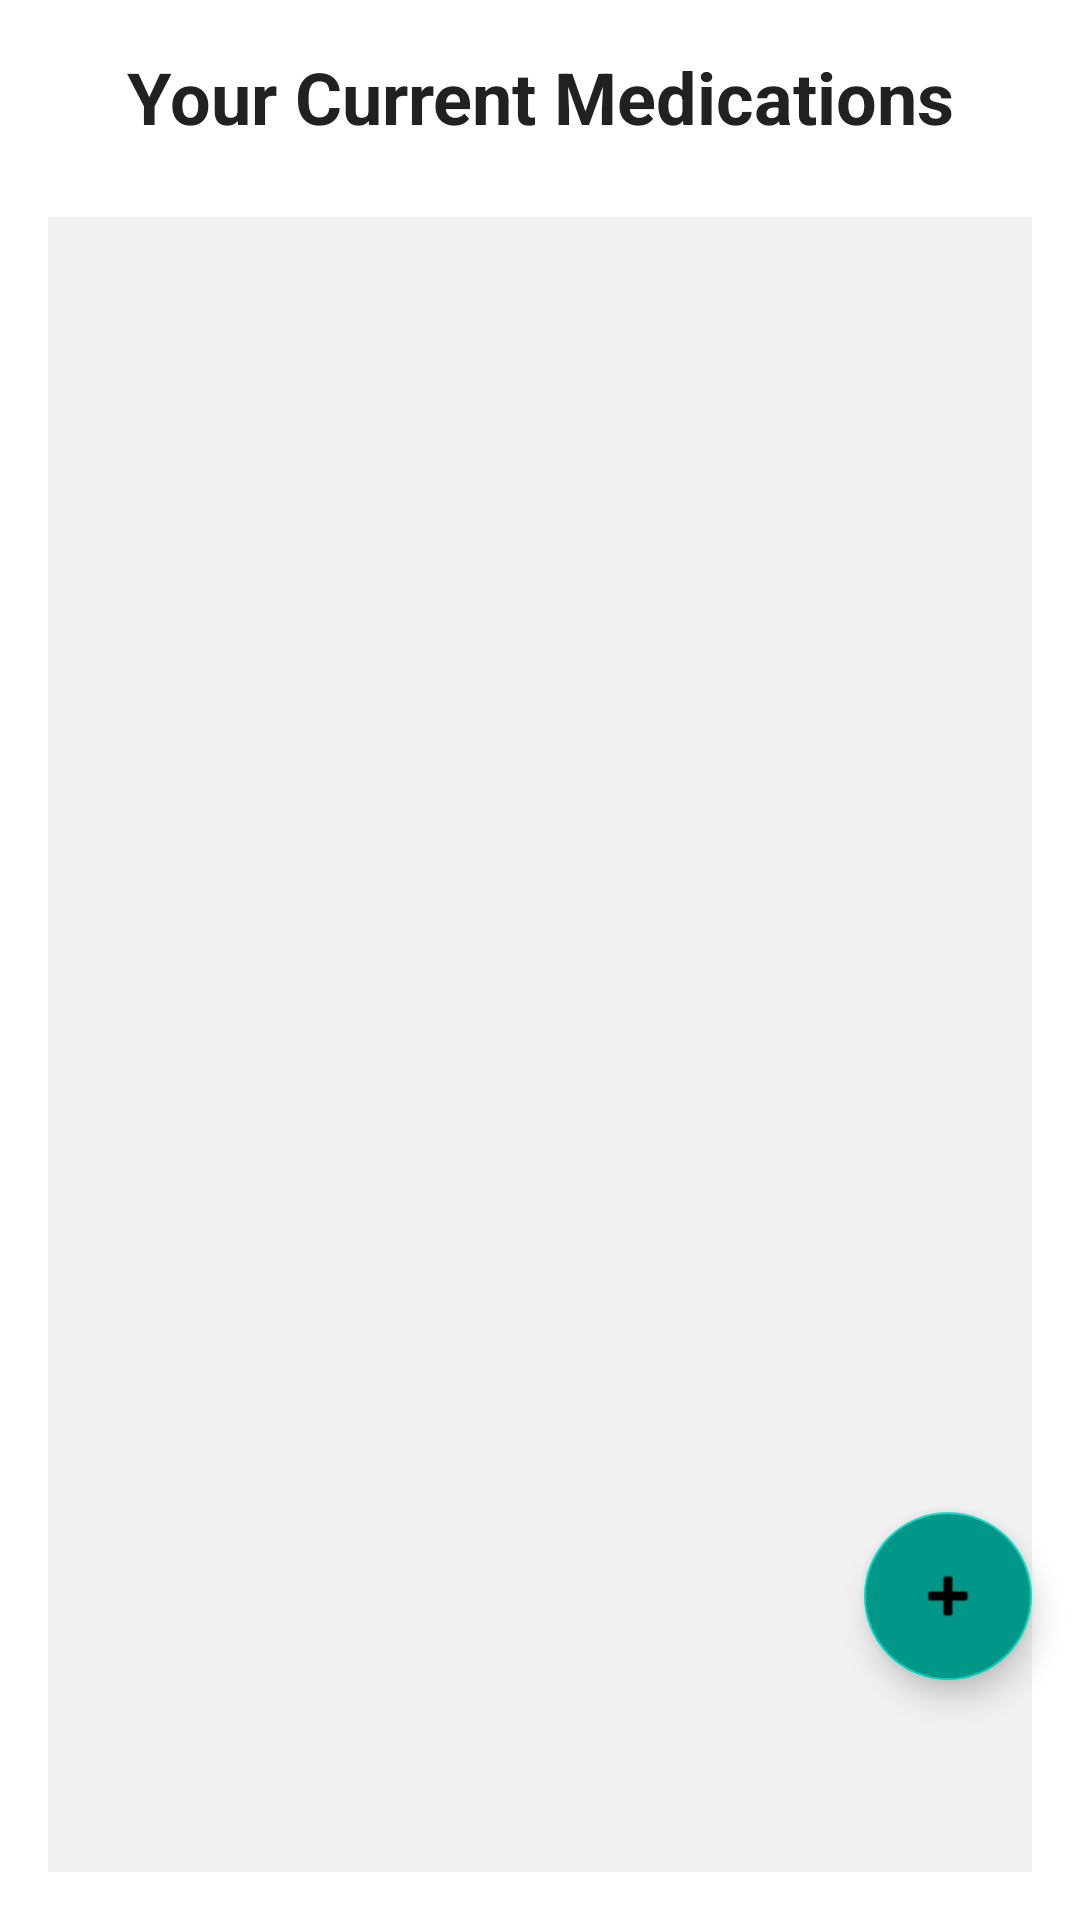

Icons on this 1080px x 1920px Android screen, each with its box as rect(x1, y1, x2, y2):
Add Prescription: rect(864, 1512, 1032, 1680)
